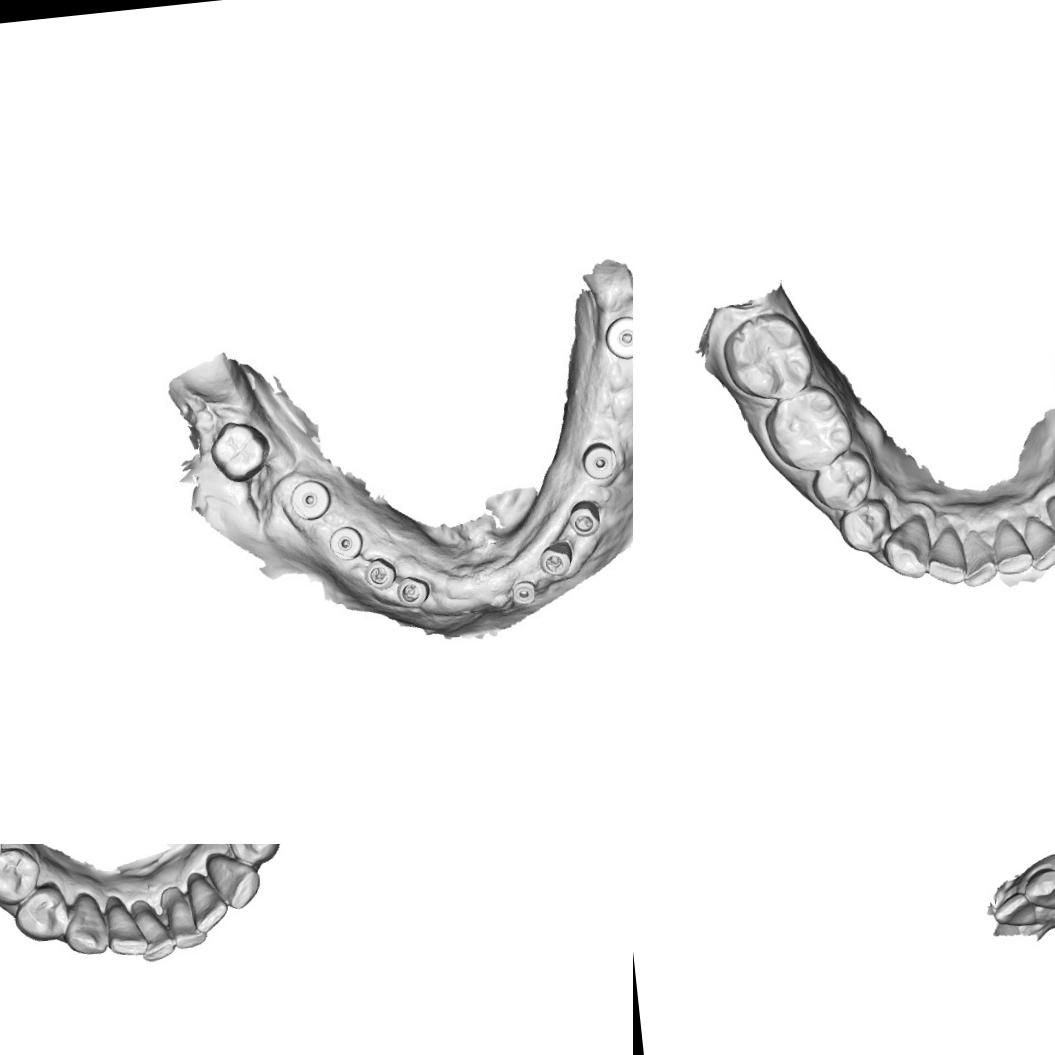canine: (204, 848, 264, 914), (881, 510, 933, 582), (58, 889, 110, 960), (1020, 864, 1055, 916), (1042, 490, 1055, 554)
implant: (286, 474, 336, 525), (576, 435, 622, 486), (597, 303, 633, 365), (536, 538, 578, 585), (324, 520, 365, 565), (565, 500, 606, 540), (360, 557, 400, 597), (395, 572, 433, 613), (510, 574, 540, 615)
incisor: (184, 872, 233, 936), (921, 524, 968, 590), (101, 901, 152, 961), (956, 523, 1000, 592), (988, 514, 1033, 578), (134, 904, 180, 963), (164, 894, 209, 952), (988, 888, 1040, 932), (1021, 511, 1055, 575)
molar: (718, 308, 818, 406), (760, 381, 858, 476), (208, 412, 274, 488)
premolar: (810, 448, 876, 515), (10, 879, 72, 946), (838, 498, 894, 560), (0, 844, 44, 908), (221, 844, 284, 870)
